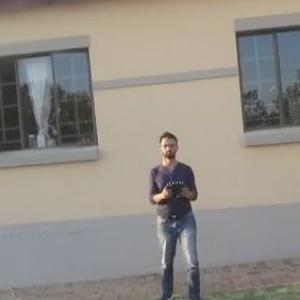follow: (146, 125, 214, 299)
